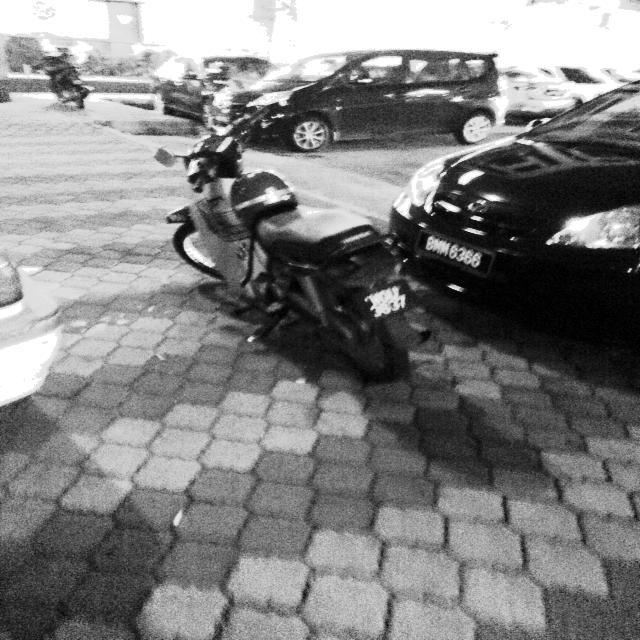Car: (392, 61, 640, 339), (225, 50, 531, 144), (145, 40, 288, 132)
Motorcycle: (142, 100, 461, 380), (30, 30, 127, 132)
